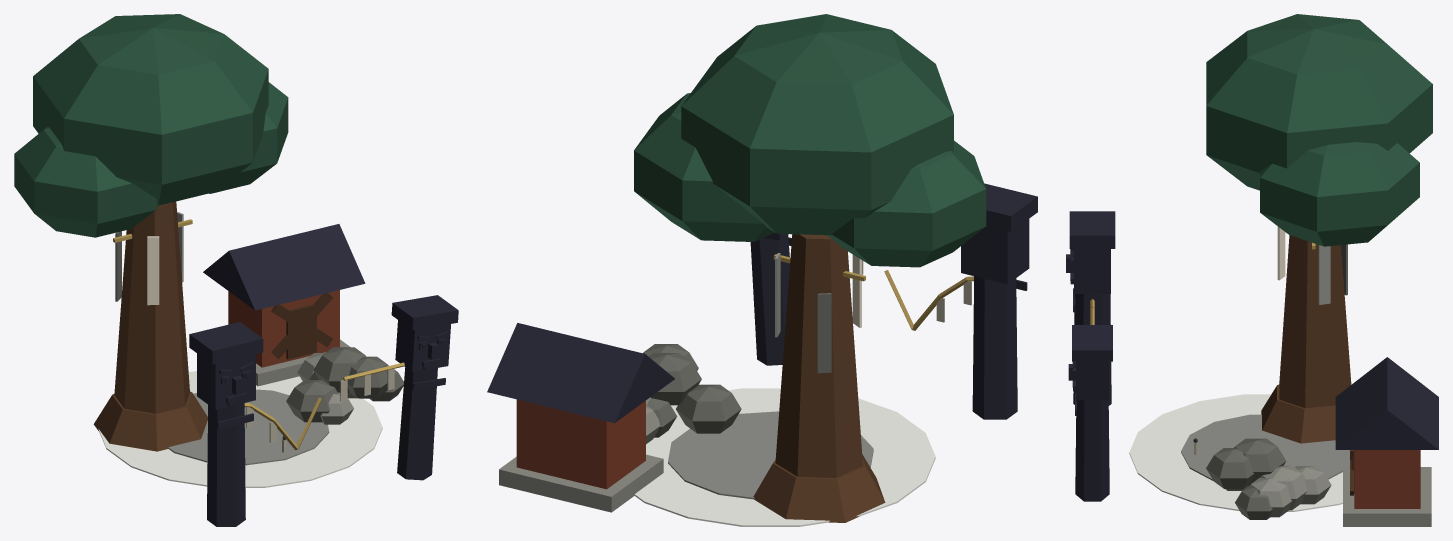
Rendered from prop_seonangdang_geomeun.glb.
3 views of the same model, side by side, from view 1: azimuth 30°, elevation 25°; view 2: azimuth 150°, elevation 25°; view 3: azimuth 270°, elevation 25° (orthographic). The views are drawn at different scales.
Parts seen in each view (by area): view 1: prop_seonangdang_geomeun; view 2: prop_seonangdang_geomeun; view 3: prop_seonangdang_geomeun.
Boxes of the visible parts, box(x1,y1,x2,y2) form: prop_seonangdang_geomeun: box(14, 14, 458, 526); prop_seonangdang_geomeun: box(487, 14, 1037, 526); prop_seonangdang_geomeun: box(1066, 14, 1438, 526).
Size of the model in its own units: 5.47 by 5.9 by 5.06.
